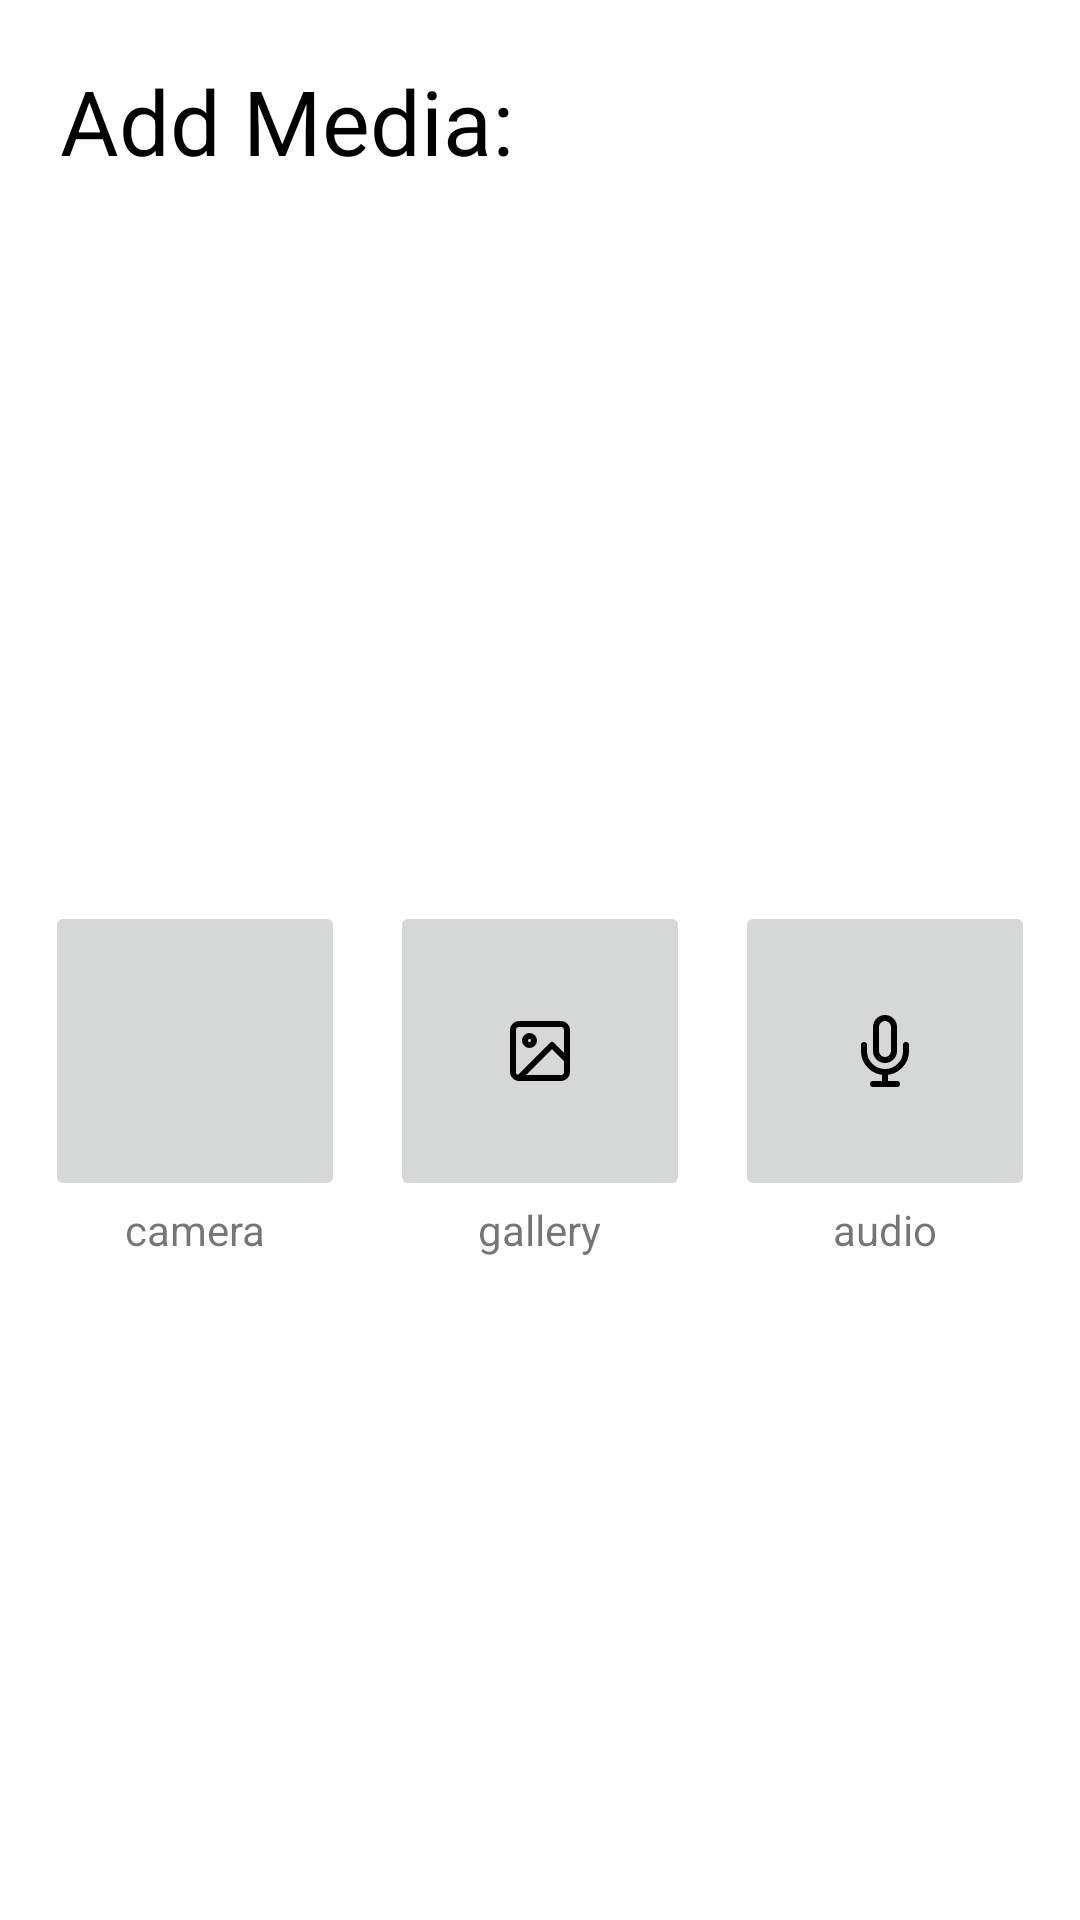

Named icons in this screenshot (1080px×1920px) and their bounding boxes, region(x1, y1, x2, y2):
mic: region(747, 919, 1023, 1183)
